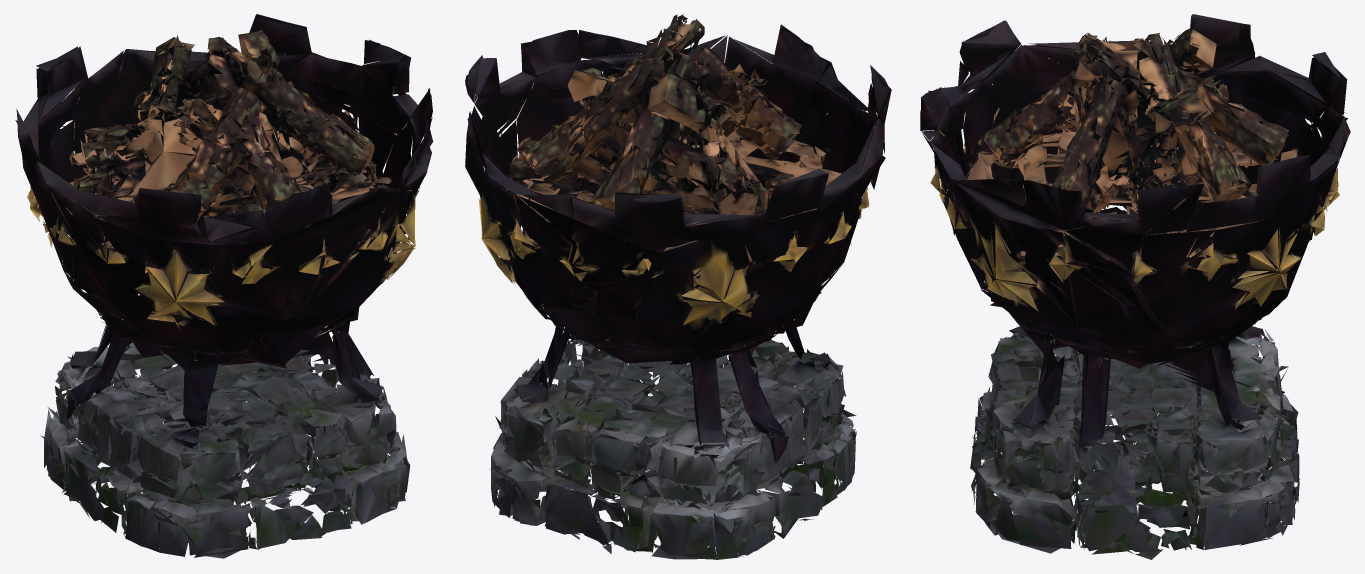
Rendered from beacon_brazier.glb.
The picture shows the model from 3 angles, left to right: view 1: azimuth 30°, elevation 25°; view 2: azimuth 150°, elevation 25°; view 3: azimuth 270°, elevation 25°; orthographic projection. The views are drawn at different scales.
Visible parts, largest first — view 1: beacon_brazier_body; view 2: beacon_brazier_body; view 3: beacon_brazier_body.
Part boxes in pixels (x1,y1,x2,y2): beacon_brazier_body: (15, 14, 433, 558); beacon_brazier_body: (465, 14, 891, 559); beacon_brazier_body: (920, 14, 1350, 559).
Bounding box in the file's own units: 2.25 × 2.61 × 2.22.
Materials: 1 (1 with a texture image).
